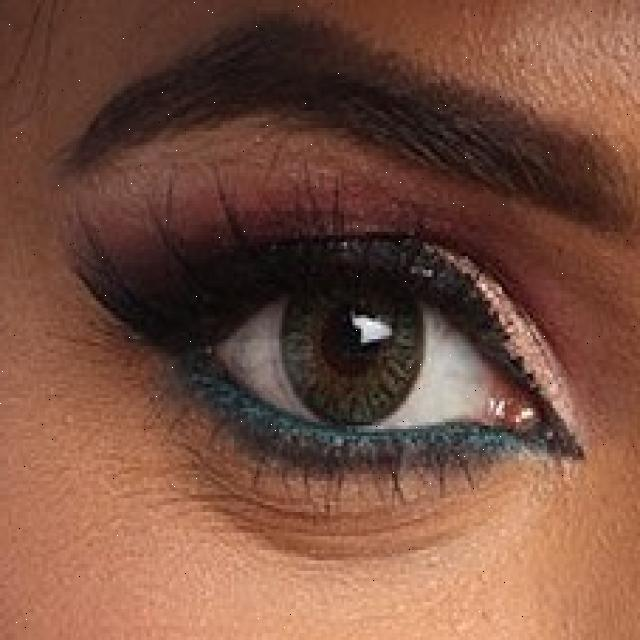Normal: (279, 246, 422, 431)
